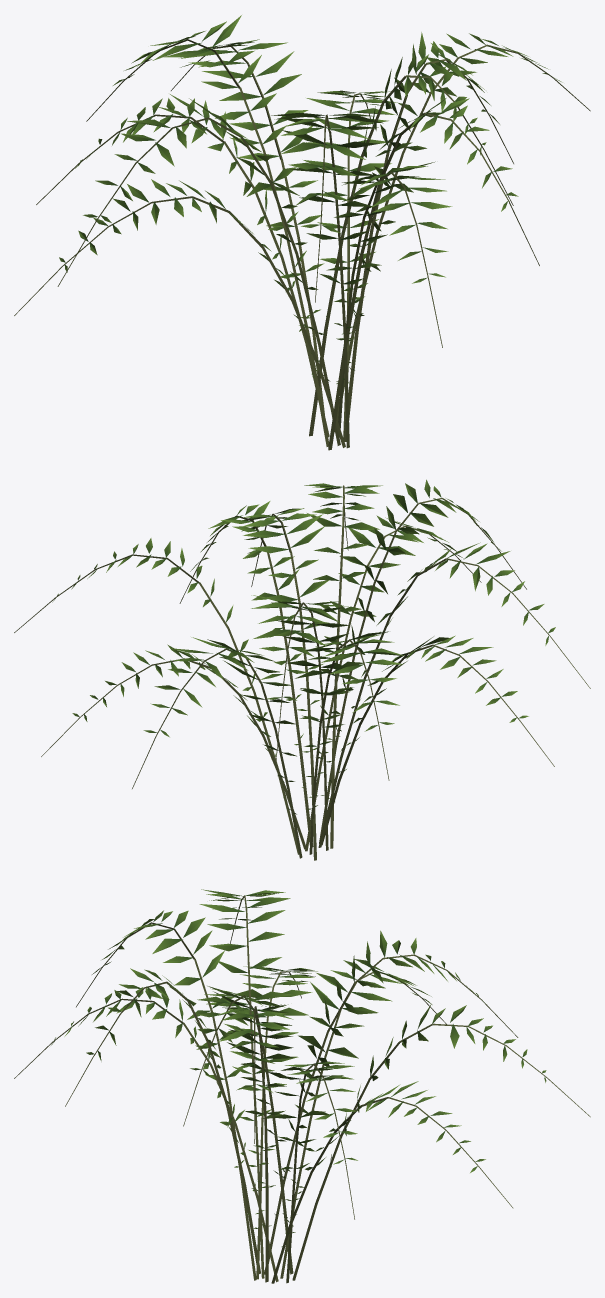
Rendered from forest_fern_001_c_LOD2.gltf.
3 renders of one model, top to bottom at view 1: azimuth 30°, elevation 25°; view 2: azimuth 150°, elevation 25°; view 3: azimuth 270°, elevation 25°, orthographic. The views are drawn at different scales.
Visible parts, largest first — view 1: forest_fern_001_c_LOD2; view 2: forest_fern_001_c_LOD2; view 3: forest_fern_001_c_LOD2.
Part boxes in pixels (x1=…): forest_fern_001_c_LOD2: x1=14, y1=15, x2=590, y2=450; forest_fern_001_c_LOD2: x1=14, y1=479, x2=590, y2=860; forest_fern_001_c_LOD2: x1=14, y1=889, x2=590, y2=1283.
Bounding box in the file's own units: 3.37 × 2.07 × 3.29.
Materials: 1 (1 with a texture image).
